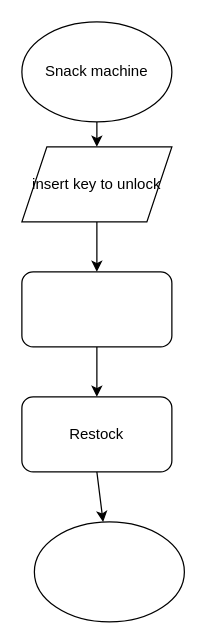
Image size: 206x644. Some labels were removed from this diagram. Here are the shapes that lost their labels. From the top down, the centre of each, then its label:
(96,309): empty coins
(108,571): End
